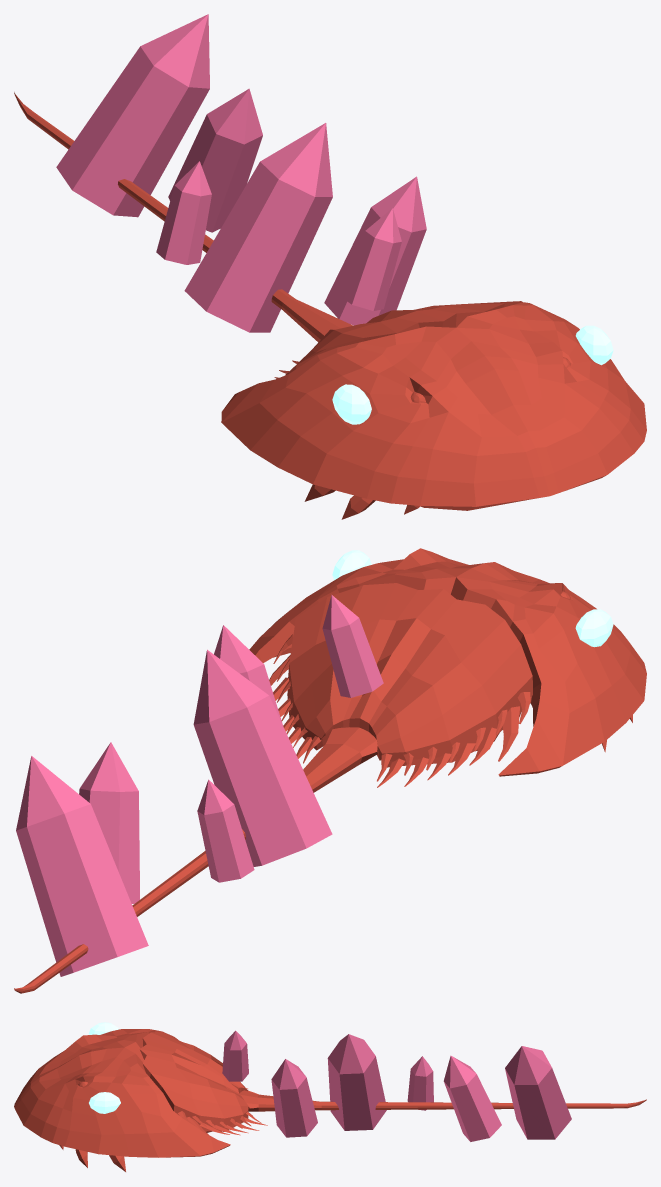
Rendered from ReefCrab.fbx.
3 renders of one model, top to bottom at view 1: azimuth 30°, elevation 25°; view 2: azimuth 150°, elevation 25°; view 3: azimuth 270°, elevation 25°, orthographic. The views are drawn at different scales.
Visible parts, largest first — view 1: Head, Glow_ff78aa, Body, Glow_50e6ff; view 2: Glow_ff78aa, Body, Head, Glow_50e6ff; view 3: Glow_ff78aa, Head, Body, Glow_50e6ff, LegFR.
Boxes of the visible parts, x1,y1,x2,y2 form: Head: [221, 302, 646, 514]; Glow_ff78aa: [56, 14, 426, 332]; Body: [14, 92, 522, 378]; Glow_50e6ff: [332, 325, 613, 424]; Glow_ff78aa: [16, 595, 383, 976]; Body: [14, 583, 532, 993]; Head: [249, 548, 646, 776]; Glow_50e6ff: [332, 550, 613, 647]; Glow_ff78aa: [222, 1030, 571, 1141]; Head: [14, 1029, 230, 1157]; Body: [139, 1031, 646, 1139]; Glow_50e6ff: [88, 1022, 120, 1113]; LegFR: [75, 1149, 125, 1171].
Bounding box in the file's own units: 1.91 × 1.01 × 5.
Materials: 3 (1 with a texture image).
